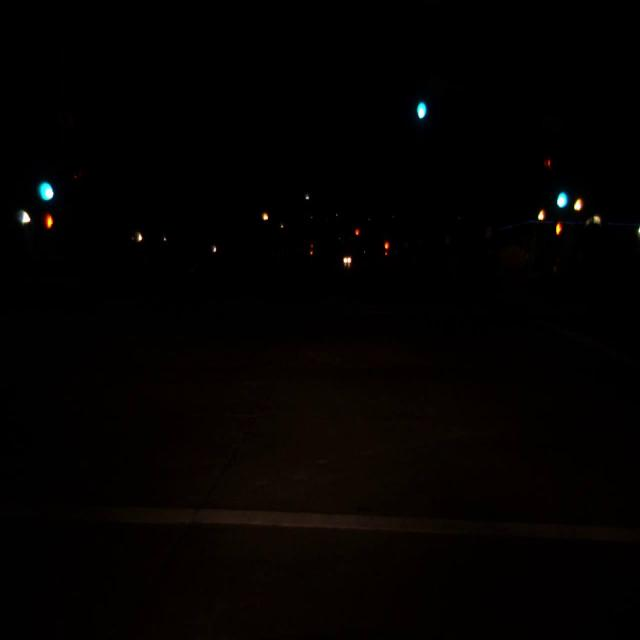go: (36, 158, 54, 208), (413, 85, 428, 122), (554, 178, 568, 212)
go traffic light: (36, 158, 54, 208), (413, 85, 428, 122), (554, 178, 568, 212)
stop: (384, 240, 389, 256), (355, 229, 359, 237), (310, 243, 314, 249)
stop traffic light: (384, 240, 389, 256), (355, 229, 359, 237), (310, 243, 314, 249)
